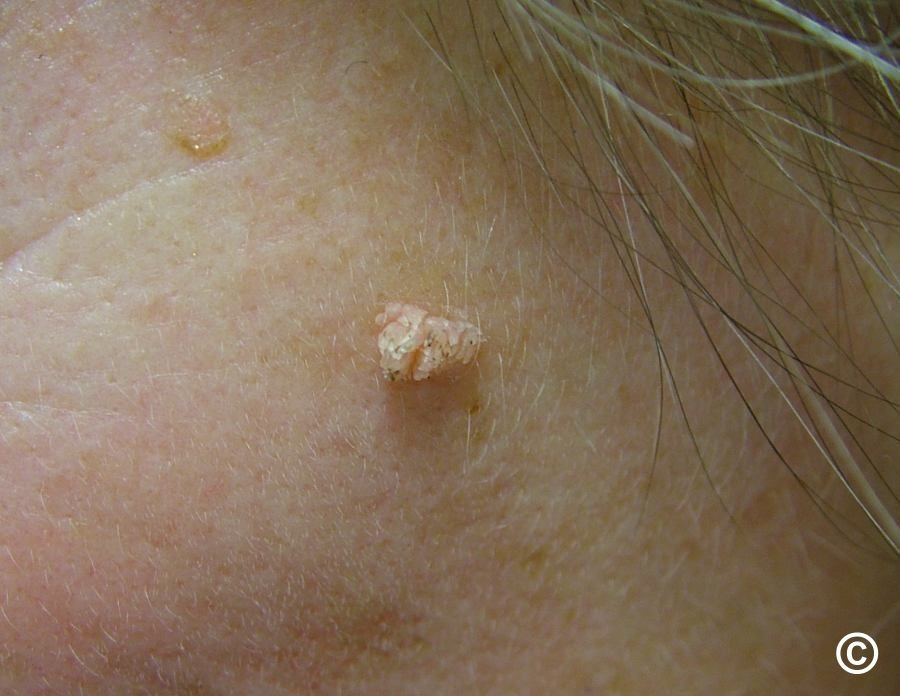Warts: (364, 278, 498, 404)
